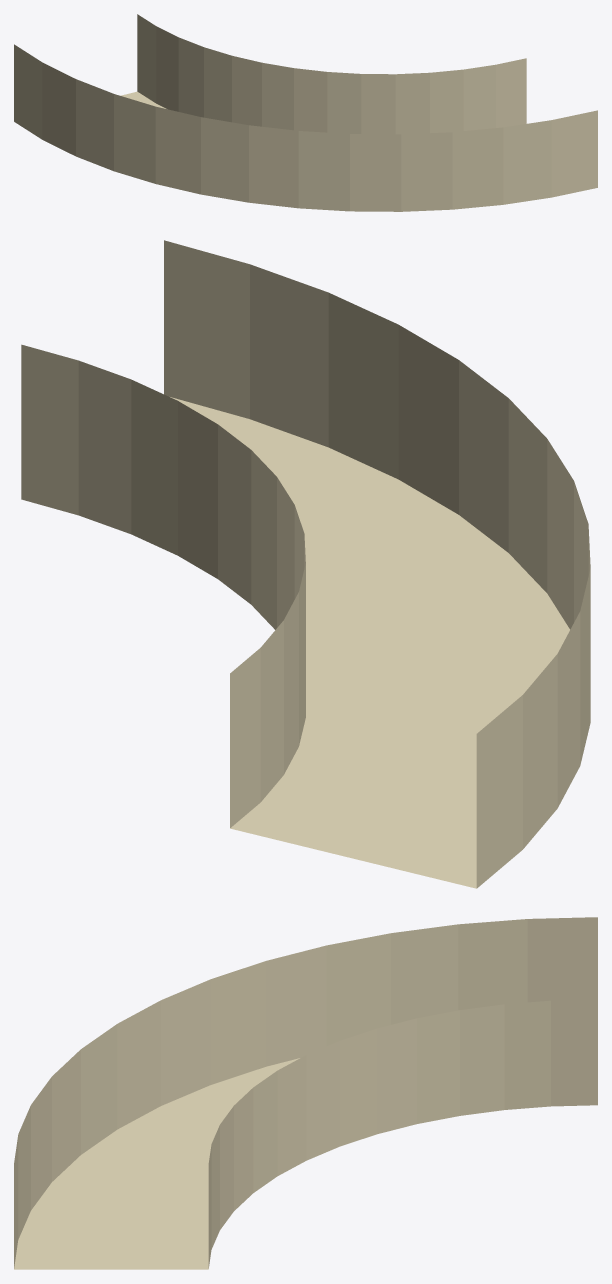
The model's file is Track_Bridge_Curve_3x3_Collider.obj.
The picture shows the model from 3 angles, top to bottom: view 1: azimuth 30°, elevation 25°; view 2: azimuth 150°, elevation 25°; view 3: azimuth 270°, elevation 25°; orthographic projection. The views are drawn at different scales.
Visible parts, largest first — view 1: Collider_Bridge_Wall; view 2: Collider_Bridge_Wall, Collider_Bridge_Floor; view 3: Collider_Bridge_Wall, Collider_Bridge_Floor.
Boxes of the visible parts, x1=… form: Collider_Bridge_Wall: x1=14, y1=14, x2=597, y2=211; Collider_Bridge_Wall: x1=21, y1=240, x2=590, y2=888; Collider_Bridge_Floor: x1=170, y1=397, x2=569, y2=888; Collider_Bridge_Wall: x1=14, y1=917, x2=597, y2=1268; Collider_Bridge_Floor: x1=14, y1=1058, x2=299, y2=1269.
Bounding box in the file's own units: 3 × 0.6 × 3.
